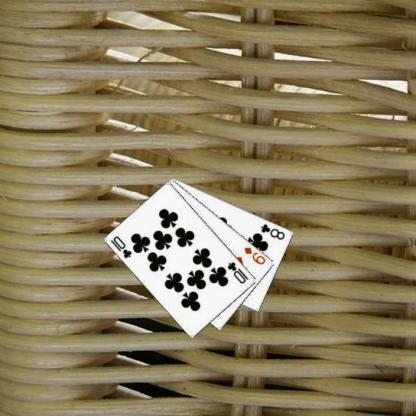10C: (108, 233, 134, 260), (225, 259, 250, 285)
8C: (258, 221, 286, 241)
9D: (242, 245, 267, 266)
